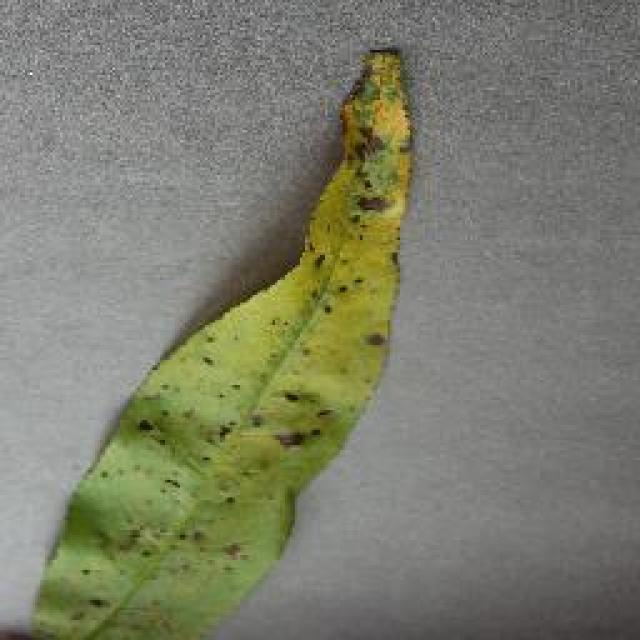Peach_Bacterial_Spot: (178, 55, 380, 585)
